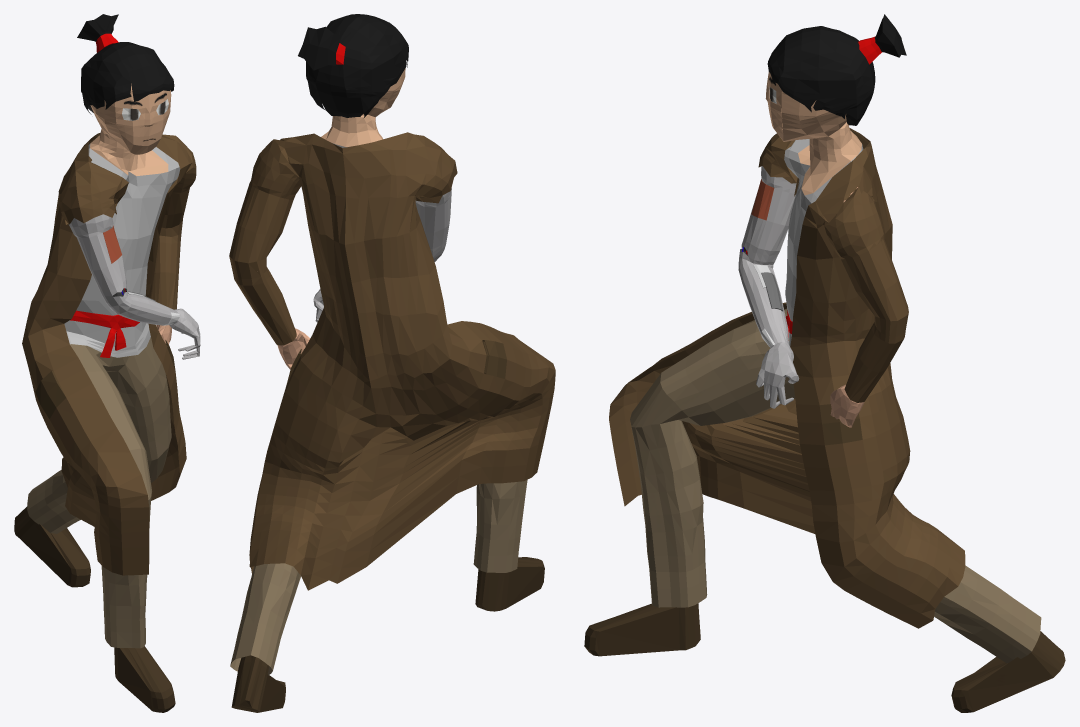
File: One_RR_000021.obj
3 views of the same model, side by side, from view 1: azimuth 30°, elevation 25°; view 2: azimuth 150°, elevation 25°; view 3: azimuth 270°, elevation 25° (orthographic). The views are drawn at different scales.
Parts seen in each view (by area): view 1: Hair_Cube.004; view 2: Hair_Cube.004; view 3: Hair_Cube.004.
Part boxes in pixels (box(x1,y1,x2,y2)): Hair_Cube.004: box(14, 14, 200, 712); Hair_Cube.004: box(229, 14, 555, 712); Hair_Cube.004: box(584, 14, 1065, 712).
Size of the model in its own units: 1.2 by 3.58 by 2.28.
